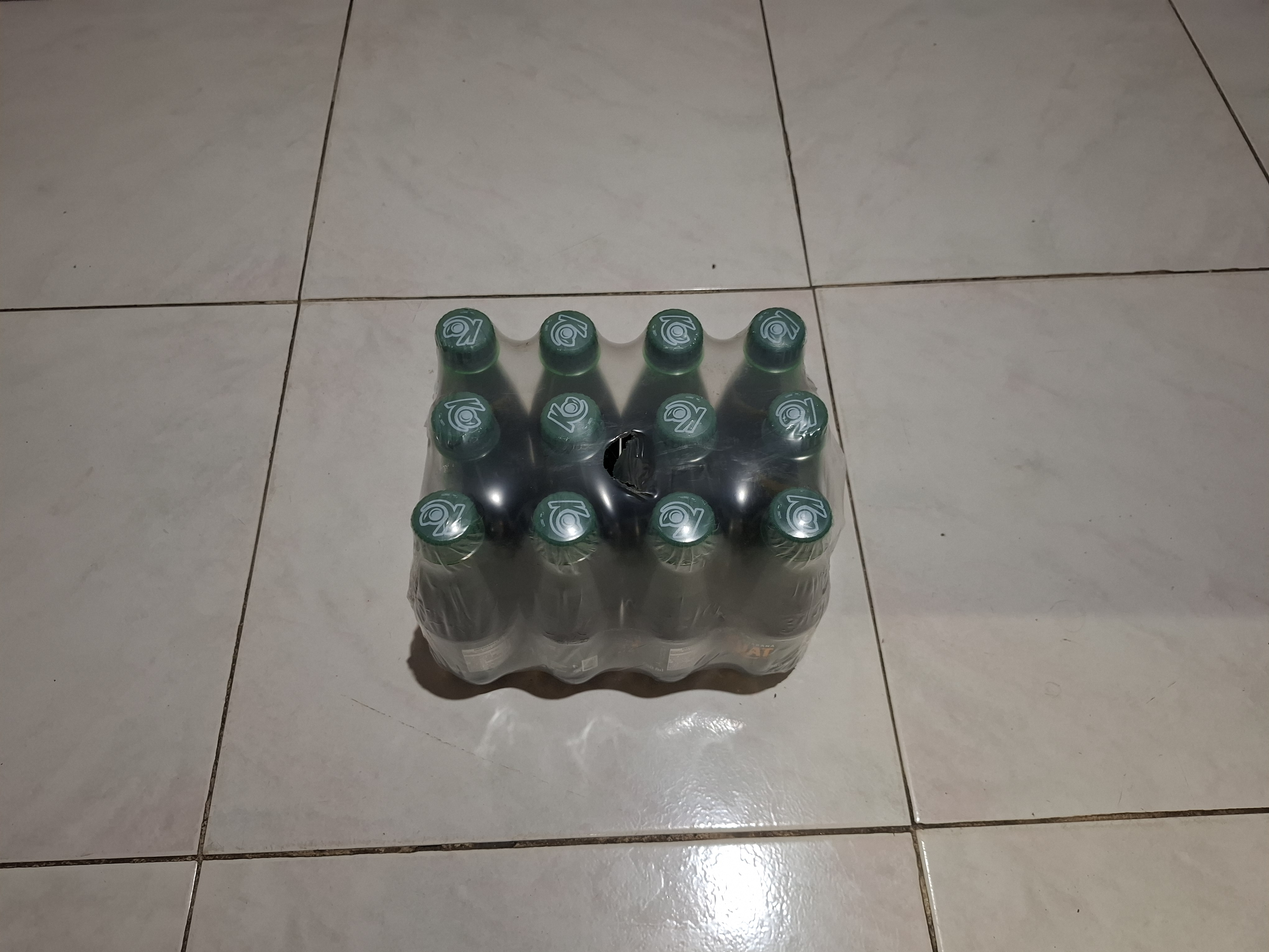Tampa Refrigerante Kuat: (405, 485, 483, 556), (766, 482, 837, 556), (761, 391, 829, 466), (431, 300, 500, 373), (540, 388, 609, 459), (429, 387, 498, 457), (648, 487, 717, 551), (745, 298, 807, 367), (651, 391, 716, 455), (539, 304, 601, 371), (534, 491, 599, 554), (644, 303, 706, 365)
